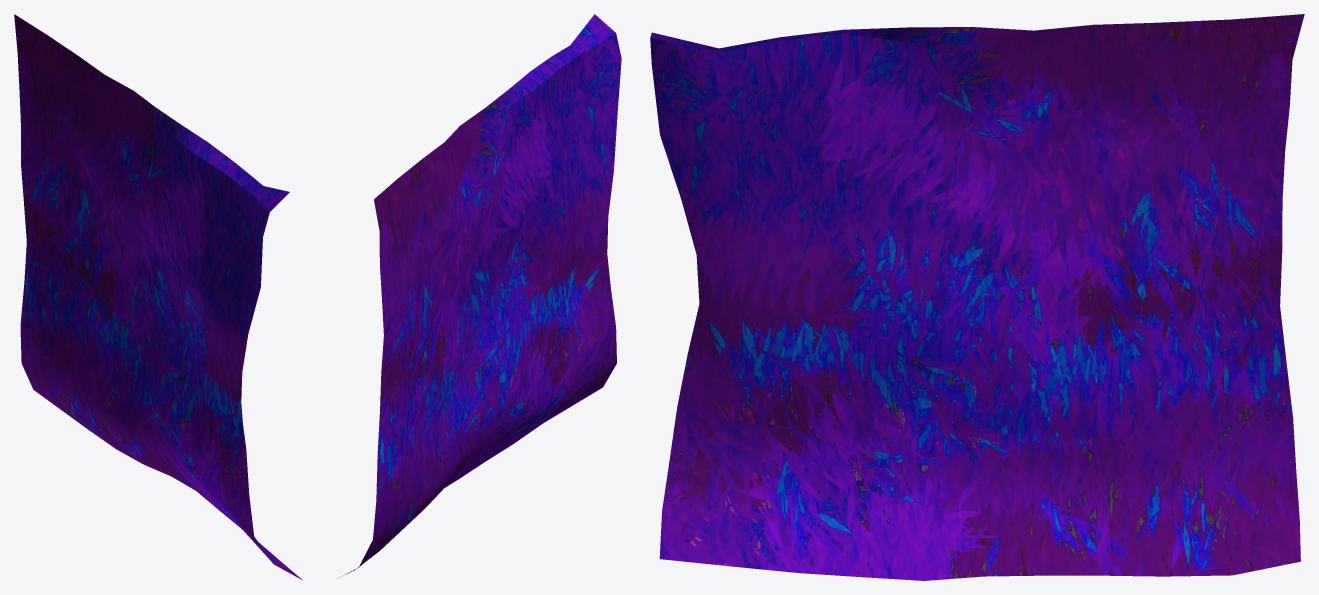
The model's file is wall-transformed.glb.
The picture shows the model from 3 angles, left to right: view 1: azimuth 30°, elevation 25°; view 2: azimuth 150°, elevation 25°; view 3: azimuth 270°, elevation 25°; orthographic projection. The views are drawn at different scales.
Parts seen in each view (by area): view 1: defaultMaterial; view 2: defaultMaterial; view 3: defaultMaterial.
Boxes of the visible parts, x1,y1,x2,y2 form: defaultMaterial: [14, 14, 302, 580]; defaultMaterial: [345, 14, 621, 574]; defaultMaterial: [650, 14, 1304, 580].
Bounding box in the file's own units: 0.1764 × 1.05 × 1.18.
1 material, 1 textured.
